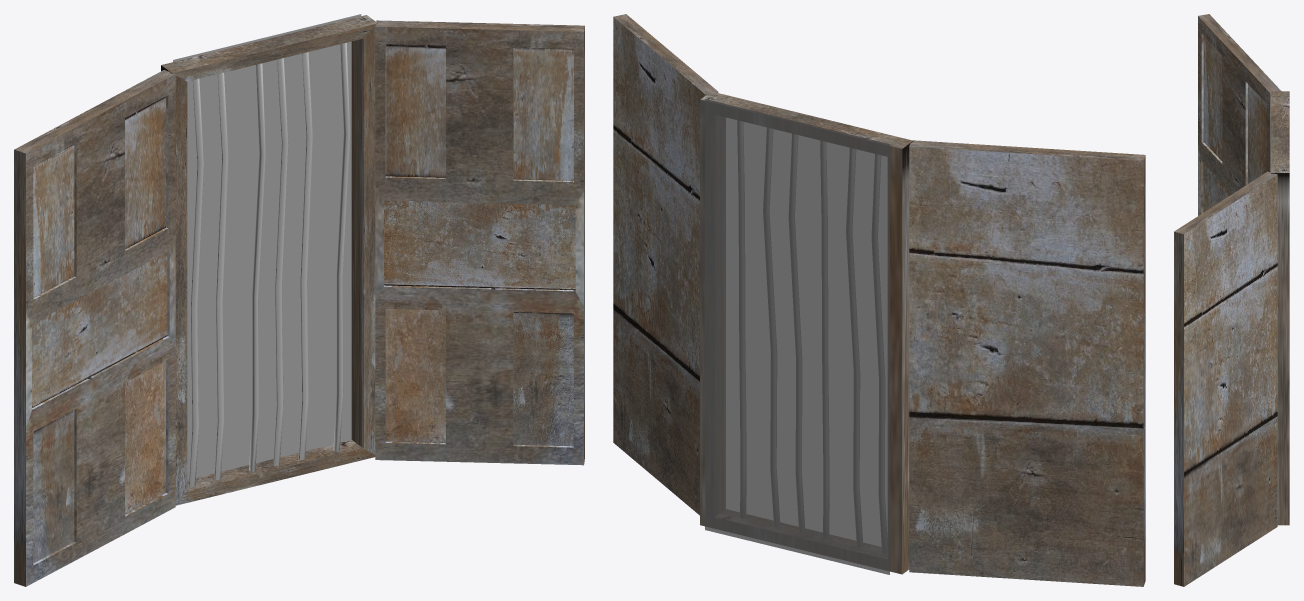
Rendered from VENTANA_PERCIANAS.fbx.
The picture shows the model from 3 angles, left to right: view 1: azimuth 30°, elevation 25°; view 2: azimuth 150°, elevation 25°; view 3: azimuth 270°, elevation 25°; orthographic projection. The views are drawn at different scales.
Parts seen in each view (by area): view 1: ventana abierta; view 2: ventana abierta; view 3: ventana abierta.
Part boxes in pixels (<box>): ventana abierta: <box>14,14,584,586</box>; ventana abierta: <box>613,14,1145,586</box>; ventana abierta: <box>1174,14,1289,586</box>.
Size of the model in its own units: 326 by 246 by 72.4.
